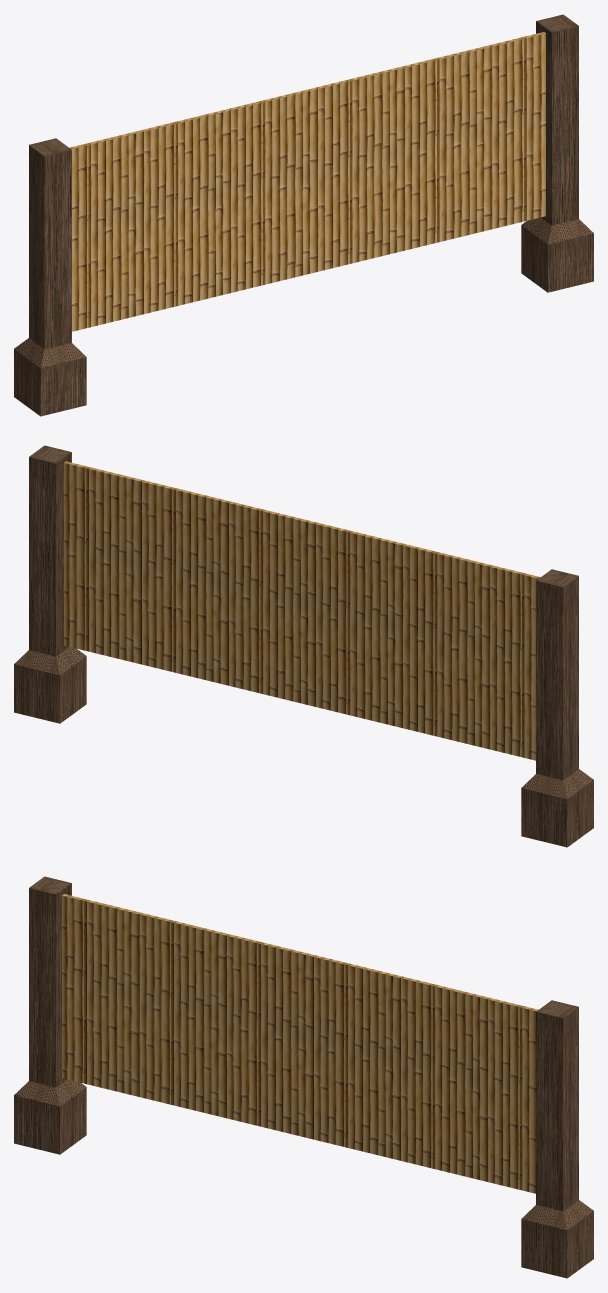
The model's file is stena.FBX.
3 renders of one model, top to bottom at view 1: azimuth 30°, elevation 25°; view 2: azimuth 150°, elevation 25°; view 3: azimuth 330°, elevation 25°, orthographic.
Parts seen in each view (by area): view 1: Box002, Box001; view 2: Box002, Box001; view 3: Box002, Box001.
Boxes of the visible parts, bbox=[...] form: Box002: bbox=[69, 32, 545, 331]; Box001: bbox=[14, 14, 593, 416]; Box002: bbox=[64, 461, 540, 760]; Box001: bbox=[14, 445, 593, 847]; Box002: bbox=[62, 894, 538, 1193]; Box001: bbox=[14, 876, 593, 1278].
Size of the model in its own units: 120 by 52.6 by 10.
3 materials, 3 textured.
